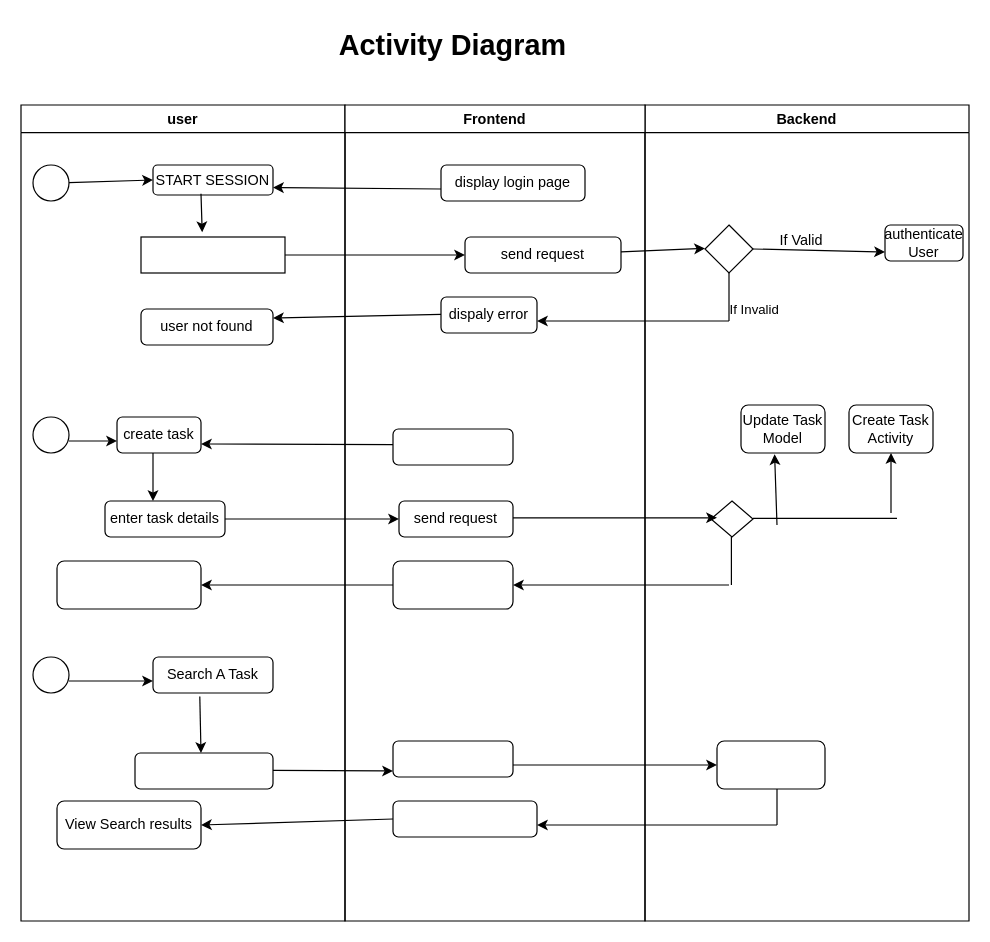
Image size: 990x942. Some labels were removed from this diagram. Each missing label, with the centre of its shape:
"Capture query and send request" goes at (x=452, y=758).
"display search results" goes at (x=464, y=818).
"display Task and Task Logs" goes at (x=452, y=584).
"display task form" goes at (x=452, y=446).
"enter credentials" goes at (x=212, y=254).
"Fill Search form" goes at (x=203, y=770).
"Query Task Model" goes at (x=770, y=764).
"View Created Task and Task Activity" goes at (x=128, y=584).
